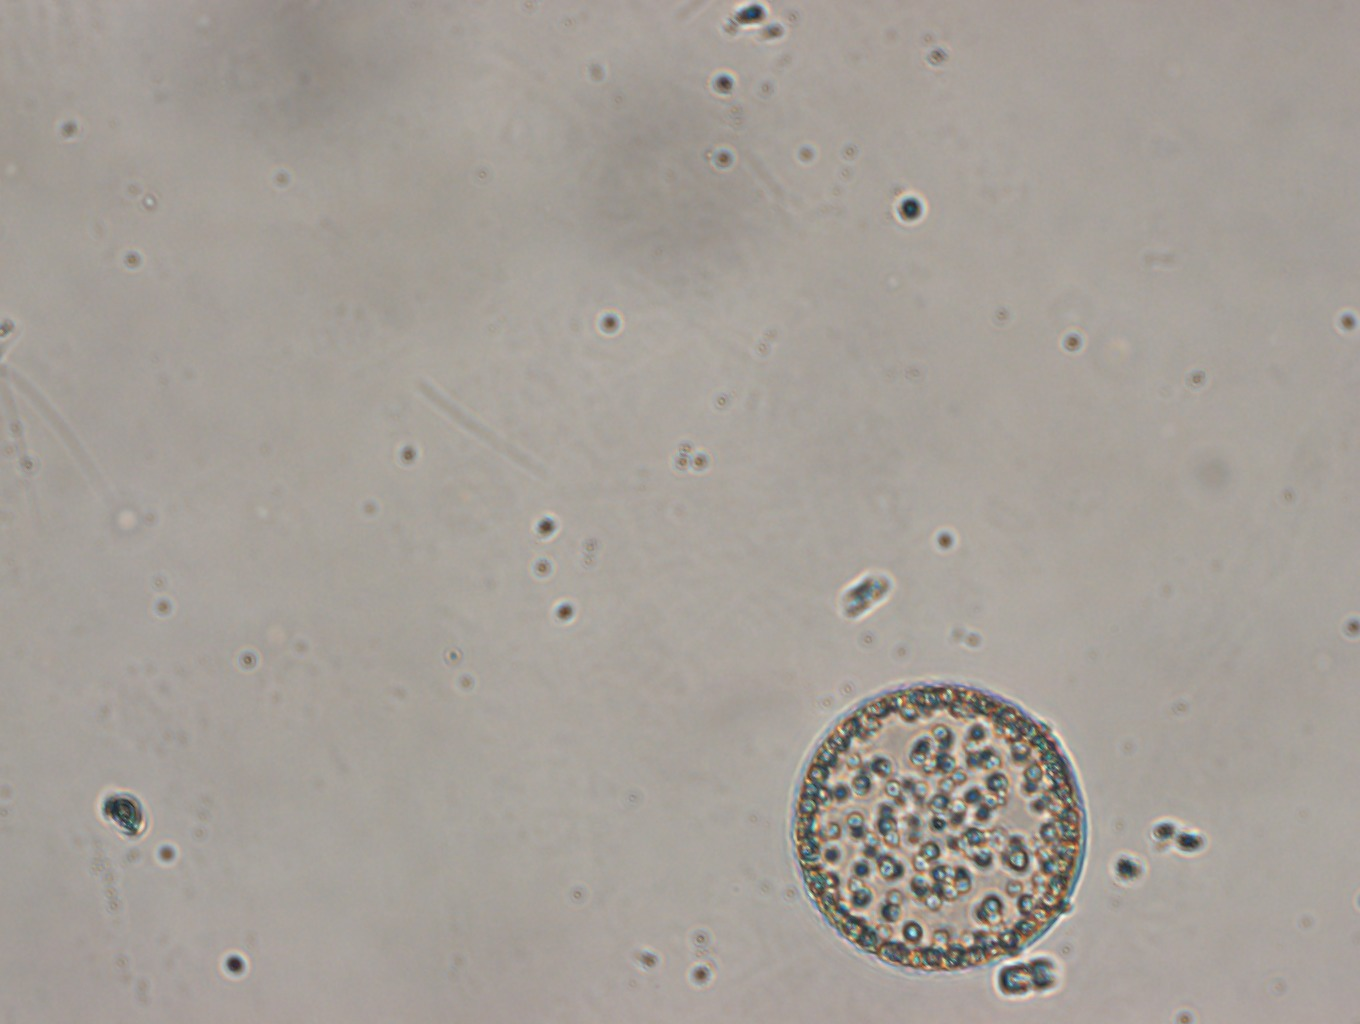coscinodiscus: (788, 675, 1094, 978)
